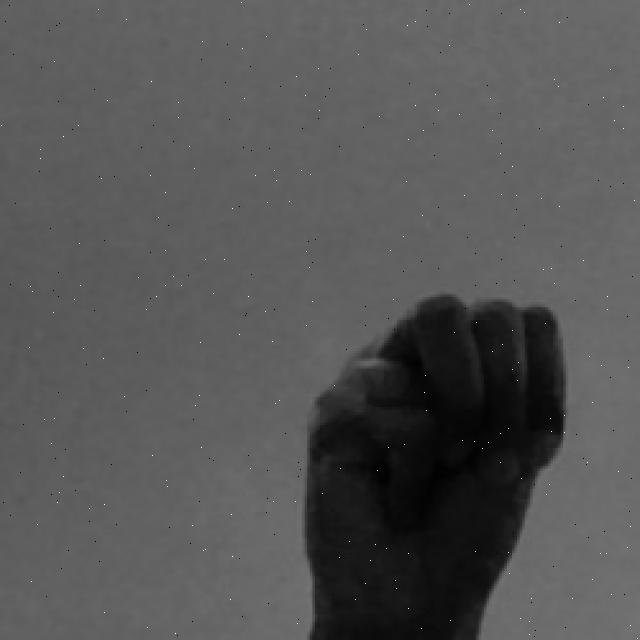M: (297, 284, 571, 640)
